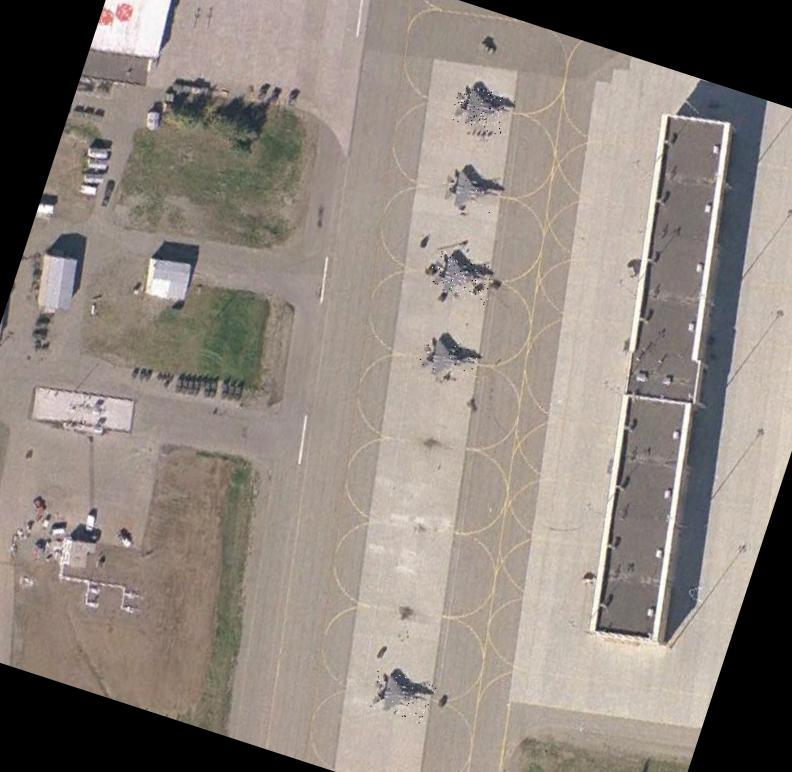A13: (424, 248, 498, 306), (364, 667, 436, 725), (416, 331, 486, 386), (437, 164, 505, 220), (449, 82, 516, 137)
